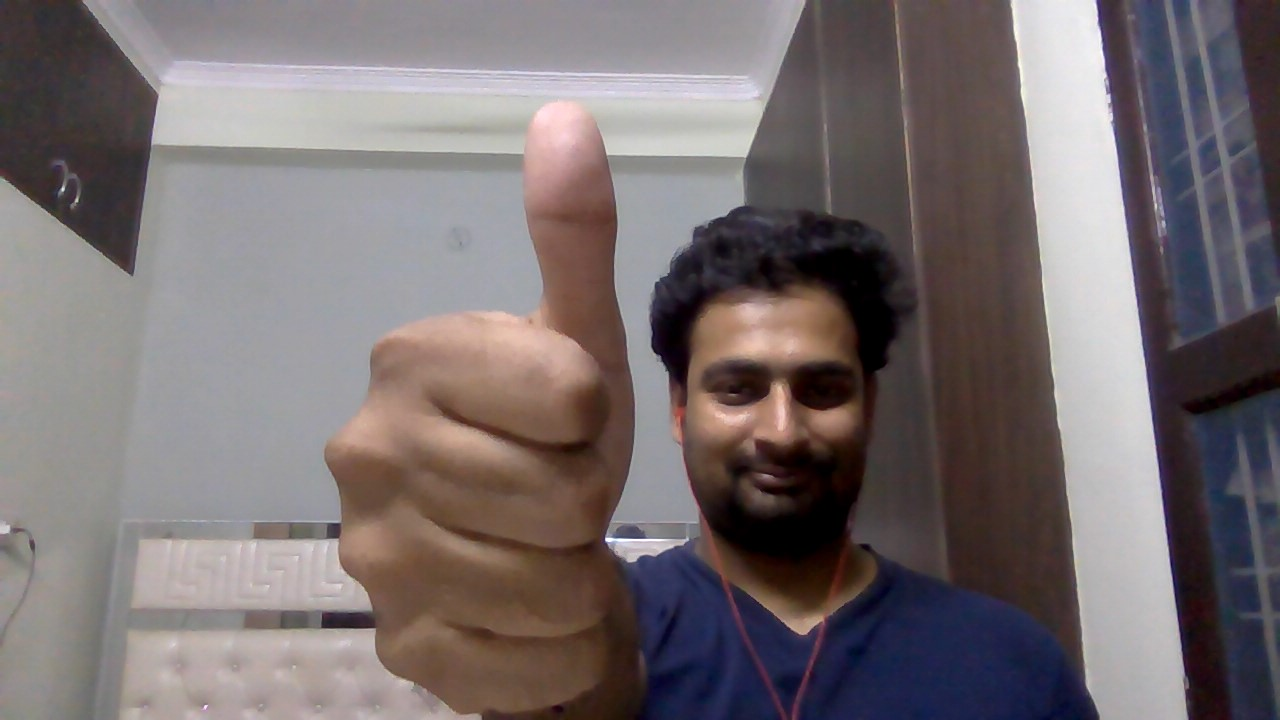Save: (317, 85, 674, 717)
